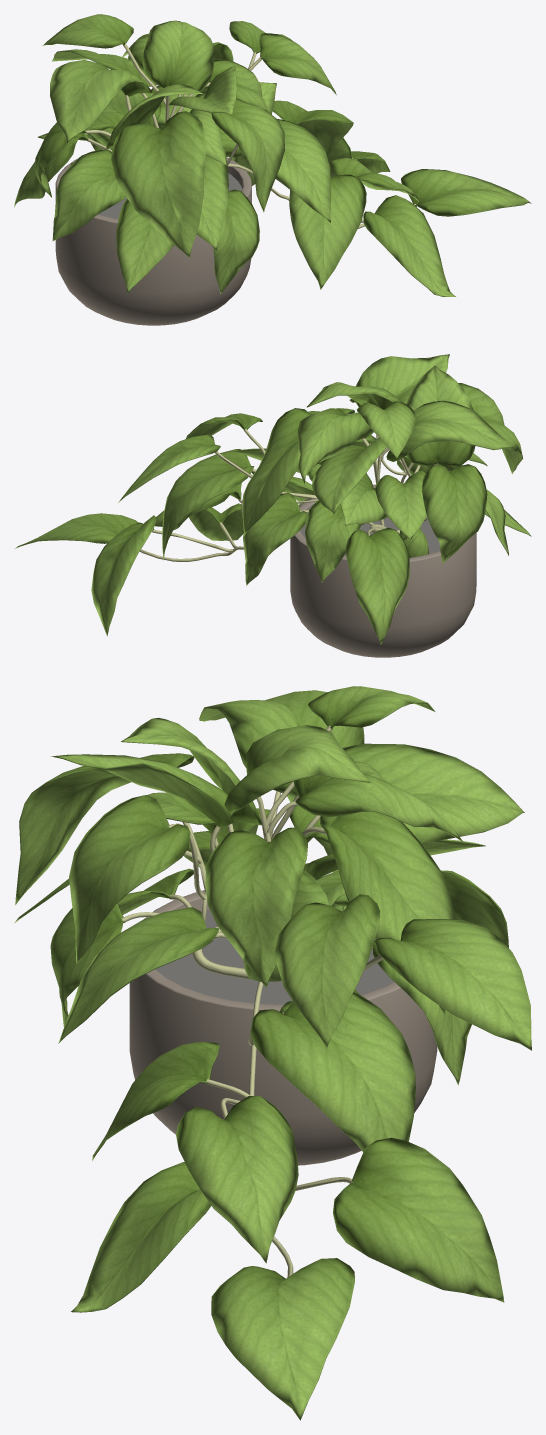
The model's file is plant_medium.glb.
3 renders of one model, top to bottom at view 1: azimuth 30°, elevation 25°; view 2: azimuth 150°, elevation 25°; view 3: azimuth 270°, elevation 25°, orthographic. The views are drawn at different scales.
Parts seen in each view (by area): view 1: Augalas1_Untitled, Cylinder, Augalas35_Untitled.026, Grid; view 2: Augalas1_Untitled, Cylinder, Augalas35_Untitled.026, Grid; view 3: Augalas1_Untitled, Cylinder, Augalas35_Untitled.026, Grid.
Boxes of the visible parts, box(x1,y1,x2,y2) form: Augalas1_Untitled: box(14, 14, 531, 296); Cylinder: box(55, 149, 251, 325); Augalas35_Untitled.026: box(85, 43, 416, 228); Grid: box(98, 173, 242, 219); Augalas1_Untitled: box(15, 354, 531, 644); Cylinder: box(290, 484, 476, 657); Augalas35_Untitled.026: box(139, 429, 450, 561); Grid: box(300, 517, 440, 555); Augalas1_Untitled: box(14, 686, 531, 1420); Cylinder: box(129, 890, 437, 1165); Augalas35_Untitled.026: box(121, 725, 400, 1277); Grid: box(155, 909, 393, 1004).
Size of the model in its own units: 0.609 by 0.315 by 0.349.
4 materials, 1 textured.
